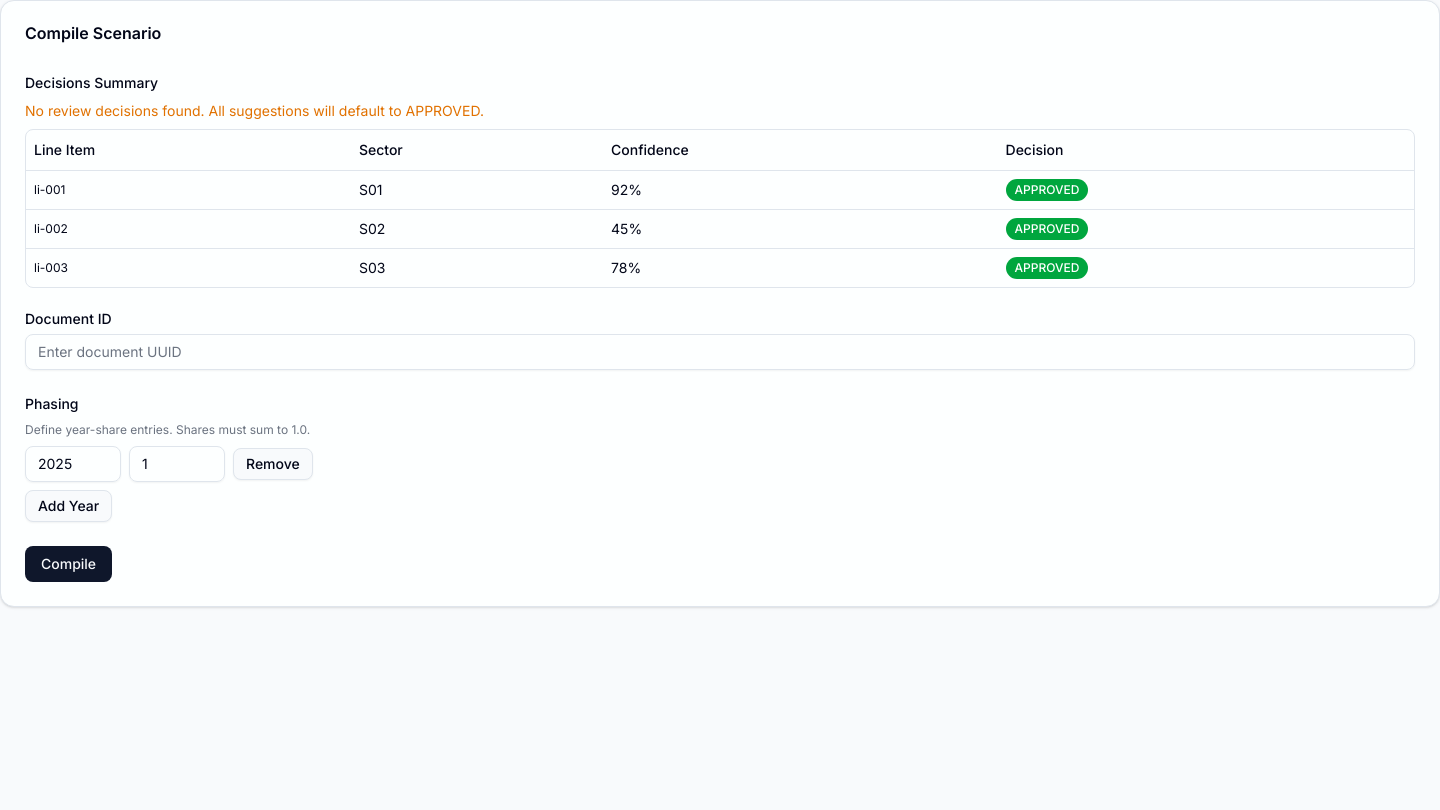
it: ScenarioCompileForm › phasing editor › shows phasing validation error when shares do not sum to 1.0
The image size is (1440, 810).
Change the share to something other than 1.0
Replace the text in the number field with placeholder "Share" with "0.5": (177, 464) [129,446,225,482]
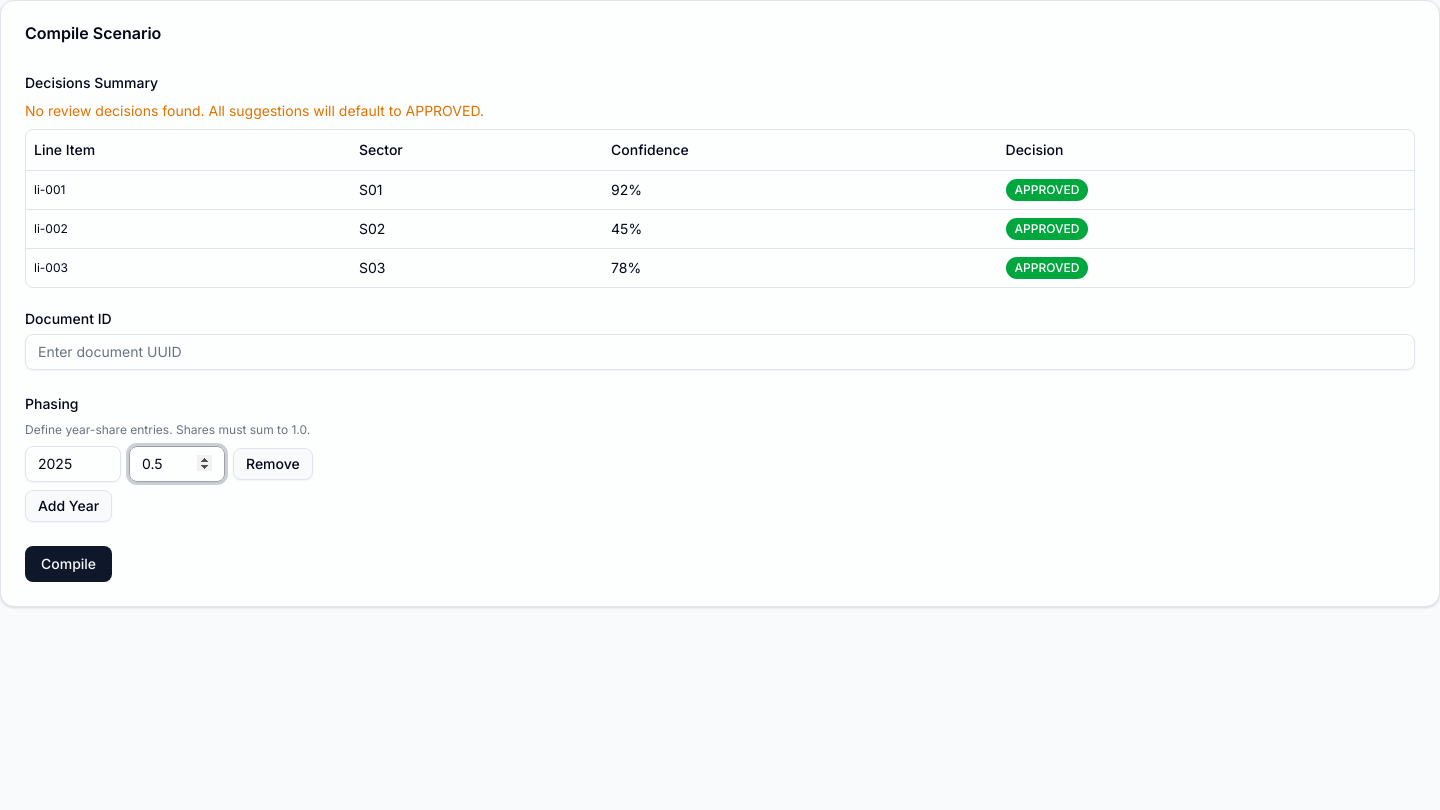
Click the button "Compile": (69, 564) [25,546,112,582]
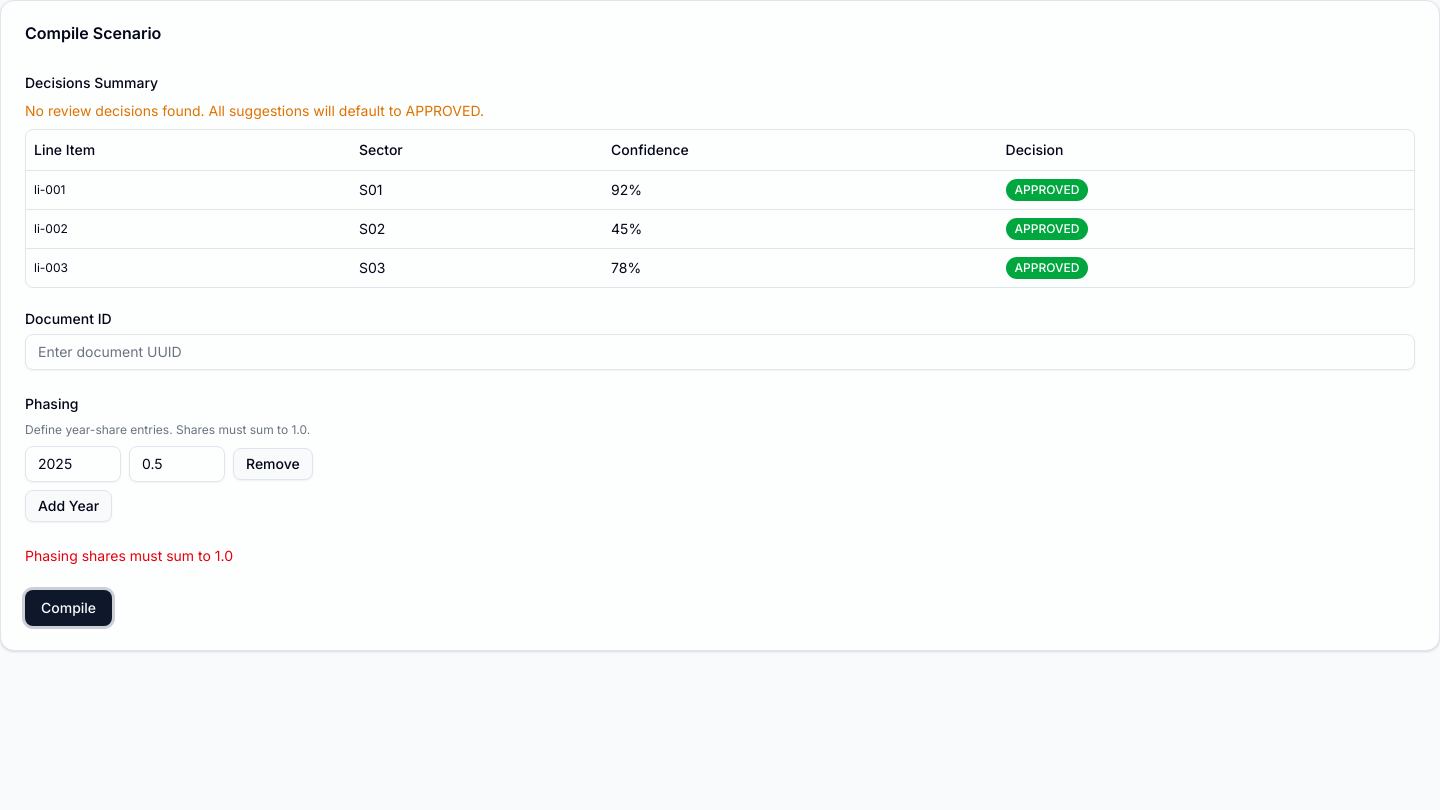
Result: the text "Phasing shares must sum to 1.0" is shown at [25,546,233,564]
